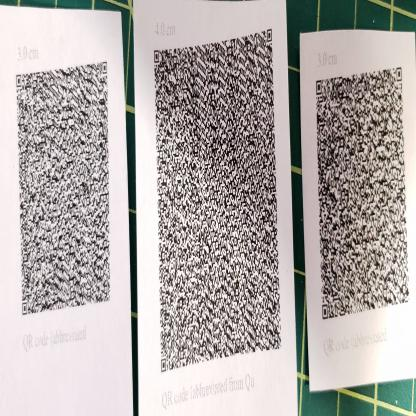qr: (145, 27, 283, 374), (312, 63, 413, 323), (13, 57, 113, 316)
